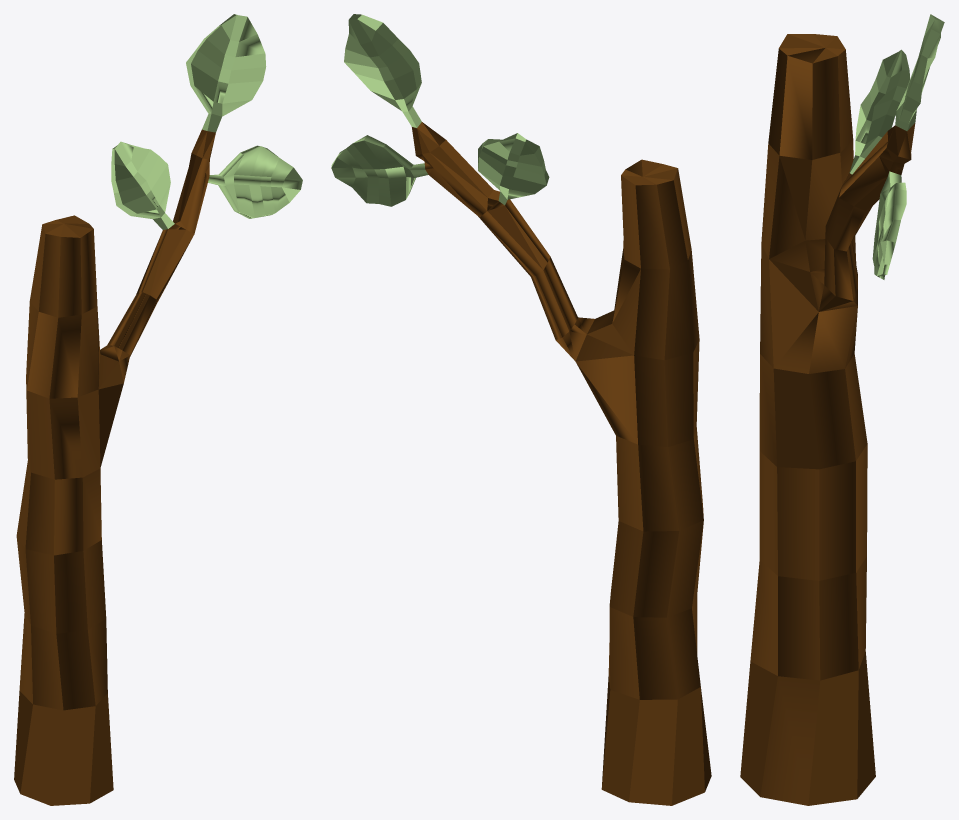
The model's file is stm_env_Twig-001.fbx.
3 views of the same model, side by side, from view 1: azimuth 30°, elevation 25°; view 2: azimuth 150°, elevation 25°; view 3: azimuth 270°, elevation 25° (orthographic). The views are drawn at different scales.
Parts seen in each view (by area): view 1: stm_env_Twig_001; view 2: stm_env_Twig_001; view 3: stm_env_Twig_001.
Part boxes in pixels (x1,y1,x2,y2): stm_env_Twig_001: [14, 14, 302, 805]; stm_env_Twig_001: [331, 14, 711, 805]; stm_env_Twig_001: [740, 14, 944, 805].
Bounding box in the file's own units: 528 × 1104 × 227.
